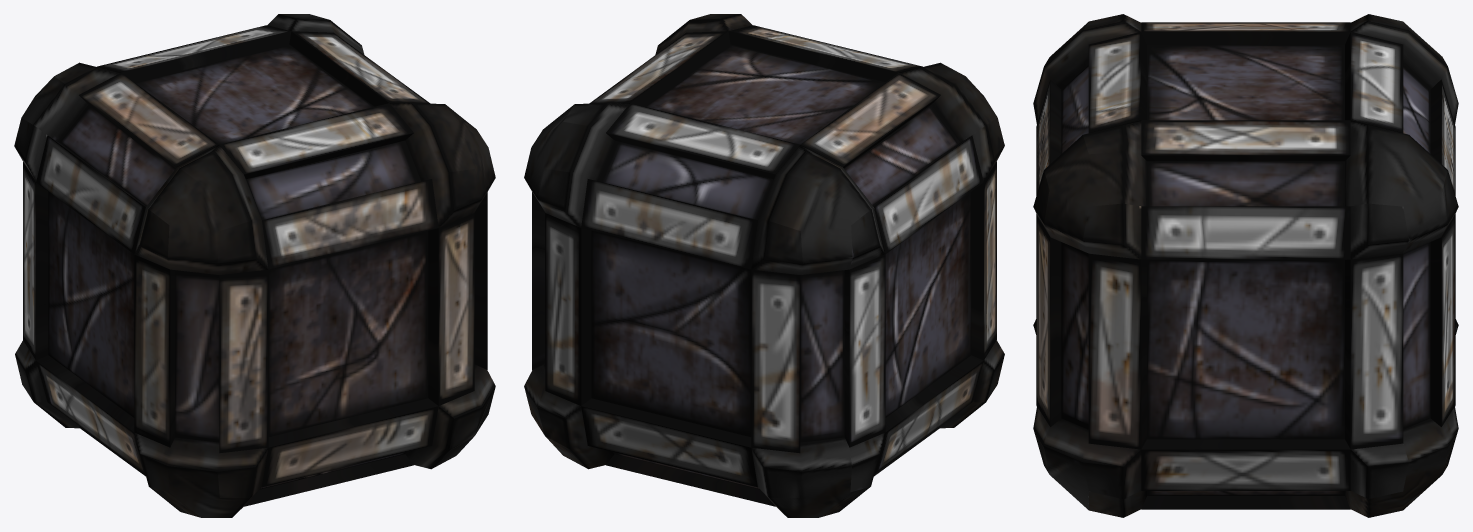
File: Heavybox.fbx
The picture shows the model from 3 angles, left to right: view 1: azimuth 30°, elevation 25°; view 2: azimuth 150°, elevation 25°; view 3: azimuth 270°, elevation 25°; orthographic projection. The views are drawn at different scales.
Visible parts, largest first — view 1: pCube8; view 2: pCube8; view 3: pCube8.
Part boxes in pixels (x1=…): pCube8: x1=14, y1=14, x2=495, y2=517; pCube8: x1=524, y1=14, x2=1004, y2=517; pCube8: x1=1033, y1=14, x2=1458, y2=517.
Bounding box in the file's own units: 2.38 × 2.38 × 2.38.
